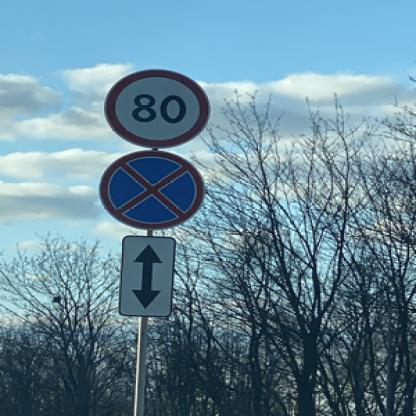Speed Limit 80: (105, 69, 207, 147)
